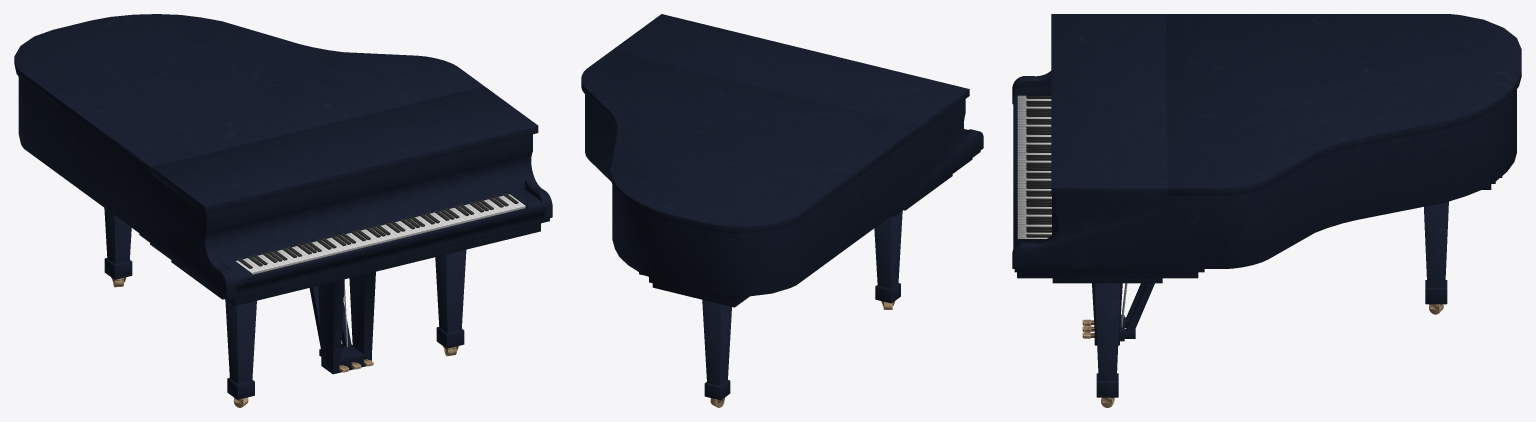
File: stan.glb
3 renders of one model, left to right at view 1: azimuth 30°, elevation 25°; view 2: azimuth 150°, elevation 25°; view 3: azimuth 270°, elevation 25°, orthographic. The views are drawn at different scales.
Parts seen in each view (by area): view 1: Keys_Cube.005; view 2: Keys_Cube.005; view 3: Keys_Cube.005.
Boxes of the visible parts, left/top/right/bottom form: Keys_Cube.005: left=14, top=14, right=552, bottom=407; Keys_Cube.005: left=581, top=14, right=983, bottom=407; Keys_Cube.005: left=1012, top=14, right=1521, bottom=407.
Bounding box in the file's own units: 3.47 × 2.33 × 4.29.
5 materials, 5 textured.
